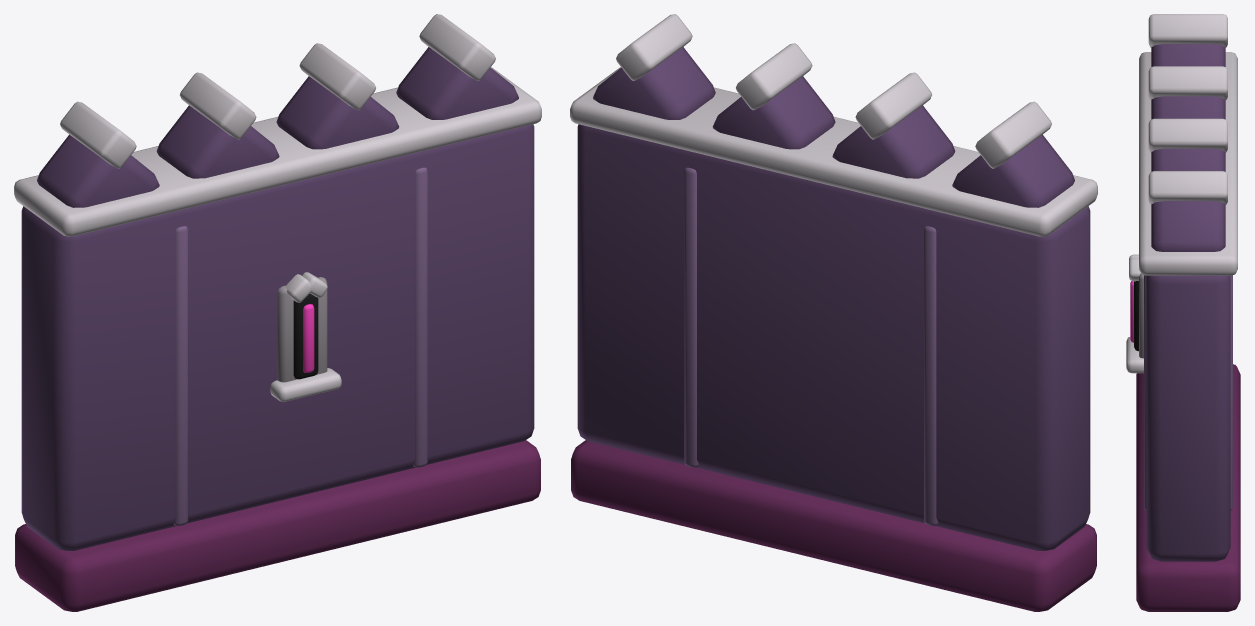
File: WallSegment.glb
The picture shows the model from 3 angles, left to right: view 1: azimuth 30°, elevation 25°; view 2: azimuth 150°, elevation 25°; view 3: azimuth 270°, elevation 25°; orthographic projection. The views are drawn at different scales.
Visible parts, largest first — view 1: WallSegment; view 2: WallSegment; view 3: WallSegment.
Boxes of the visible parts, bbox=[...] form: WallSegment: bbox=[14, 14, 541, 611]; WallSegment: bbox=[570, 14, 1097, 611]; WallSegment: bbox=[1126, 14, 1240, 611].
Bounding box in the file's own units: 2 × 1.87 × 0.46.
